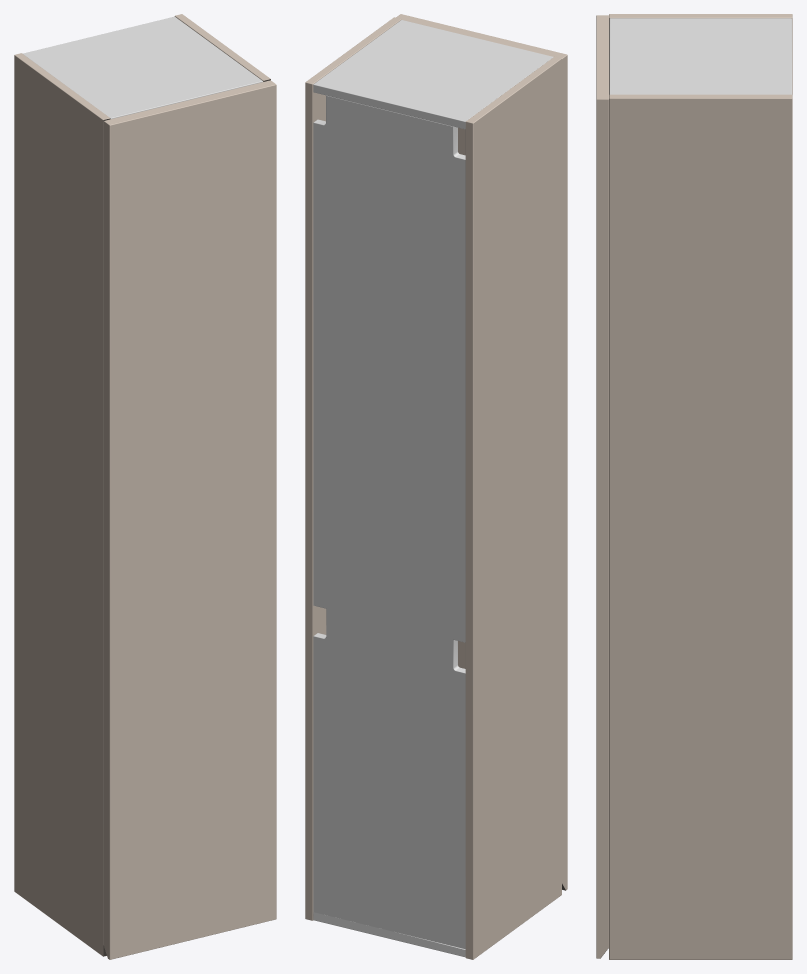
3 views of the same model, side by side, from view 1: azimuth 30°, elevation 25°; view 2: azimuth 150°, elevation 25°; view 3: azimuth 270°, elevation 25° (orthographic). The views are drawn at different scales.
Parts seen in each view (by area): view 1: VX10; view 2: VX10; view 3: VX10.
Boxes of the visible parts, box(x1,y1,x2,y2) form: VX10: box(14, 14, 276, 959); VX10: box(305, 14, 567, 959); VX10: box(596, 14, 792, 959).
Size of the model in its own units: 0.35 by 1.66 by 0.343.
